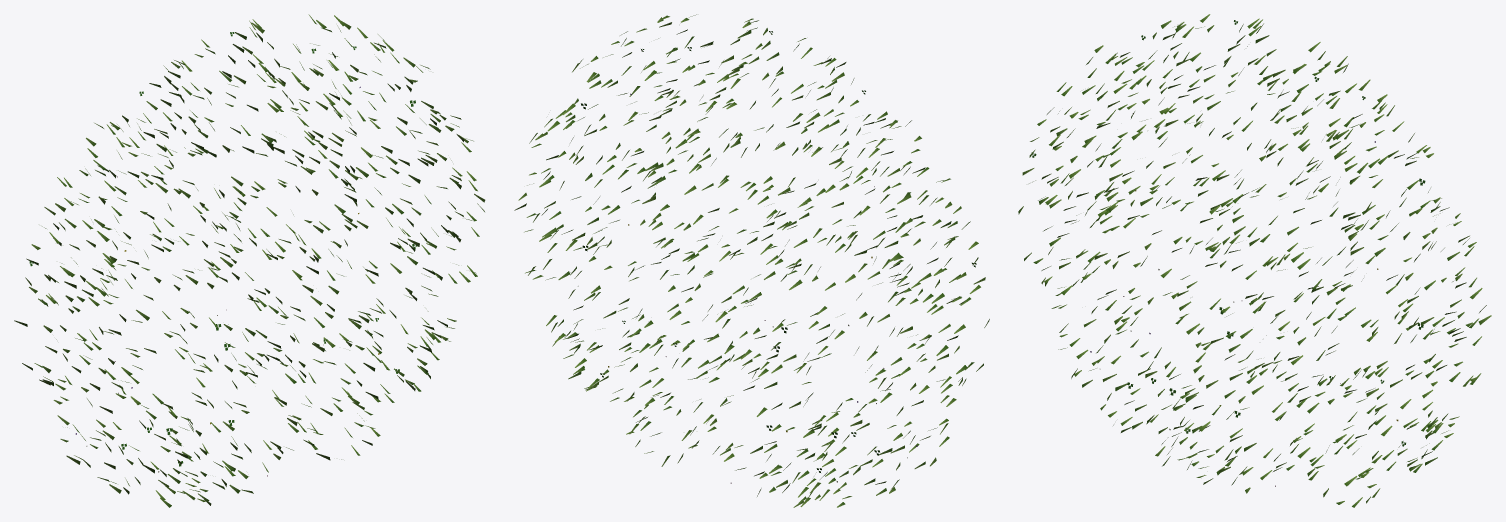
Rendered from Grass_Tile_NorthMeadow.glb.
3 views of the same model, side by side, from view 1: azimuth 30°, elevation 25°; view 2: azimuth 150°, elevation 25°; view 3: azimuth 330°, elevation 25° (orthographic).
Visible parts, largest first — view 1: Grass_Tile_NorthMeadow; view 2: Grass_Tile_NorthMeadow; view 3: Grass_Tile_NorthMeadow.
Boxes of the visible parts, x1,y1,x2,y2 form: Grass_Tile_NorthMeadow: (14,14,485,507); Grass_Tile_NorthMeadow: (514,14,989,507); Grass_Tile_NorthMeadow: (1018,14,1491,507).
Bounding box in the file's own units: 1.92 × 1.86 × 0.0935.
